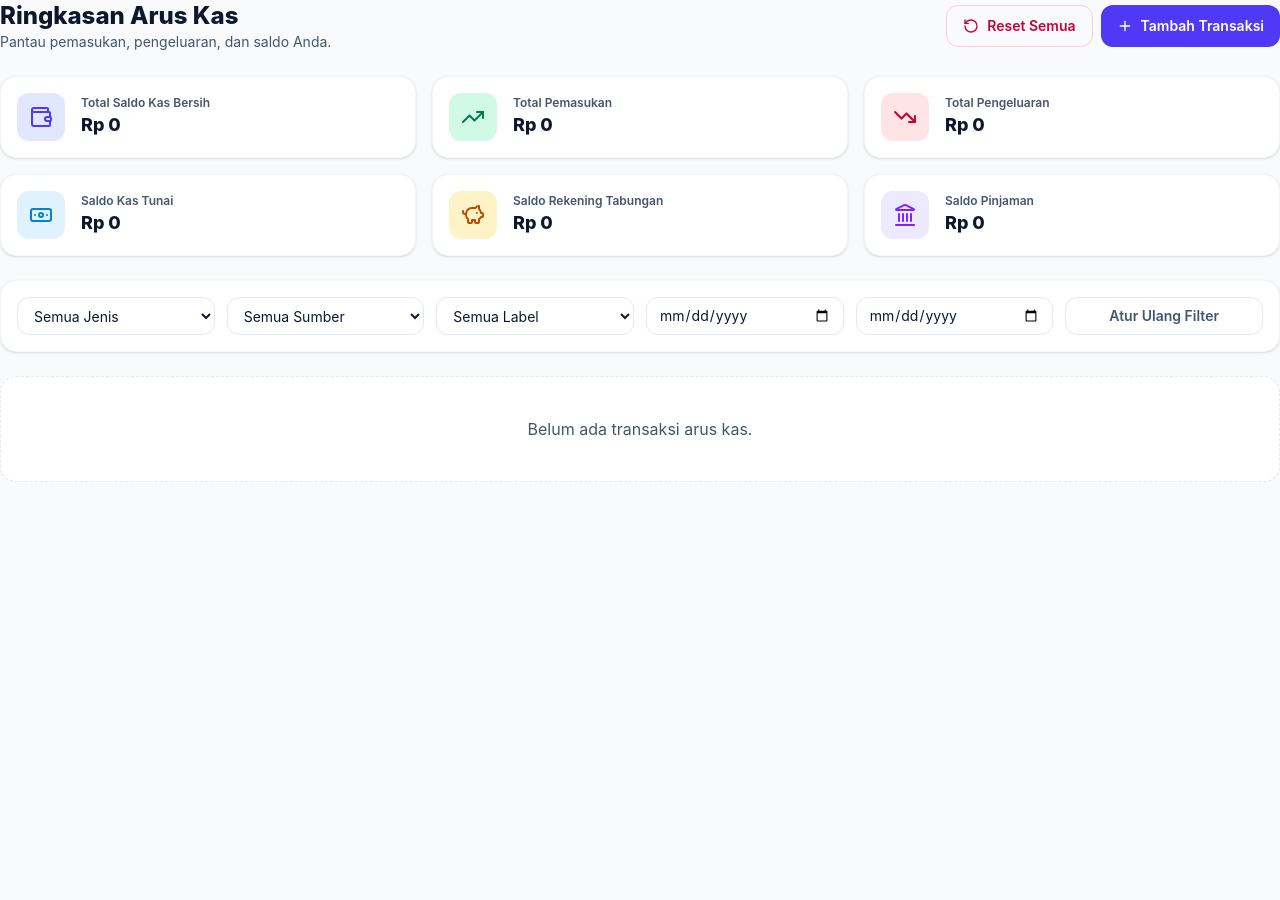
Test: HomePage › membuka, menutup, dan memuat ulang setelah modal tambah
This screenshot has width=1280, height=900.
Click the button with test id "add-button".
click(1190, 26)  # box left=1101, top=5, right=1279, bottom=47
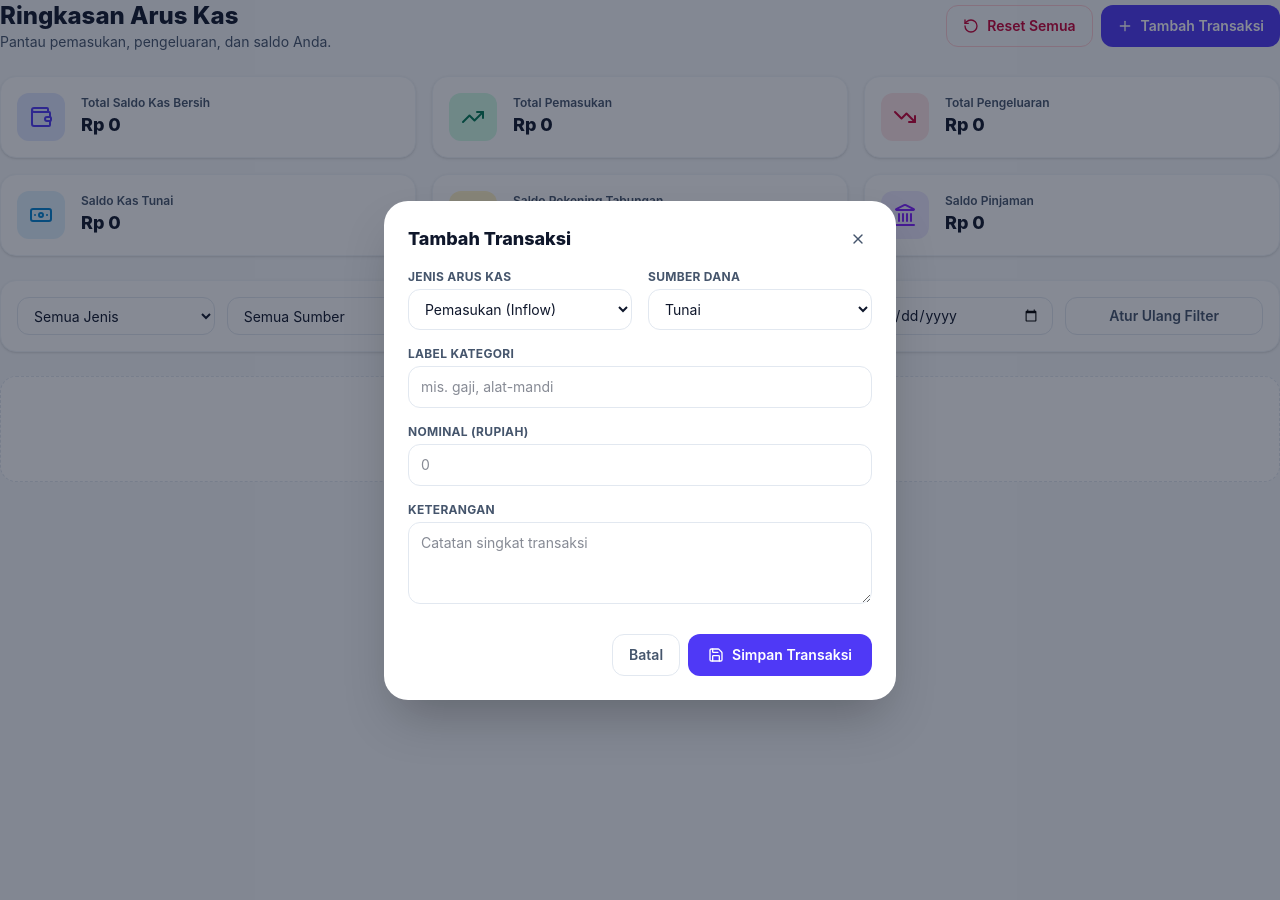
Now the element with test id "add-modal" is shown
